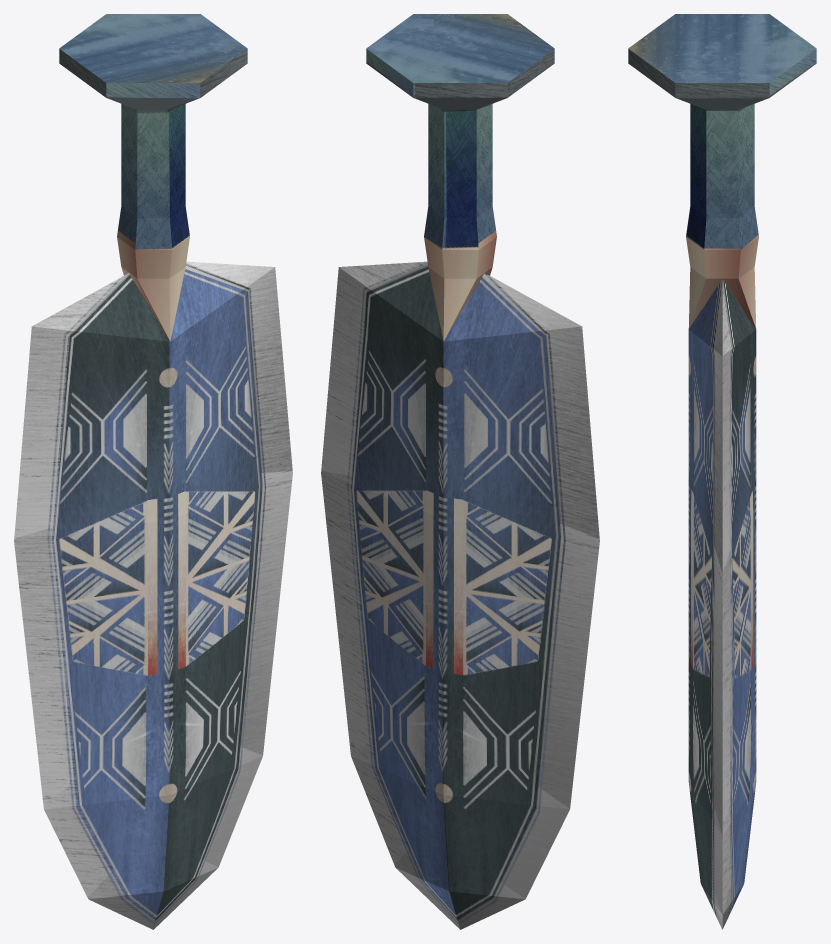
Rendered from sworda.obj.
3 renders of one model, left to right at view 1: azimuth 30°, elevation 25°; view 2: azimuth 150°, elevation 25°; view 3: azimuth 270°, elevation 25°, orthographic.
Parts seen in each view (by area): view 1: sword_a; view 2: sword_a; view 3: sword_a.
Part boxes in pixels (bbox=[...]): sword_a: bbox=[14, 14, 292, 929]; sword_a: bbox=[321, 14, 599, 929]; sword_a: bbox=[628, 14, 816, 929].
Size of the model in its own units: 134 by 406 by 78.74.
1 material, 1 textured.
